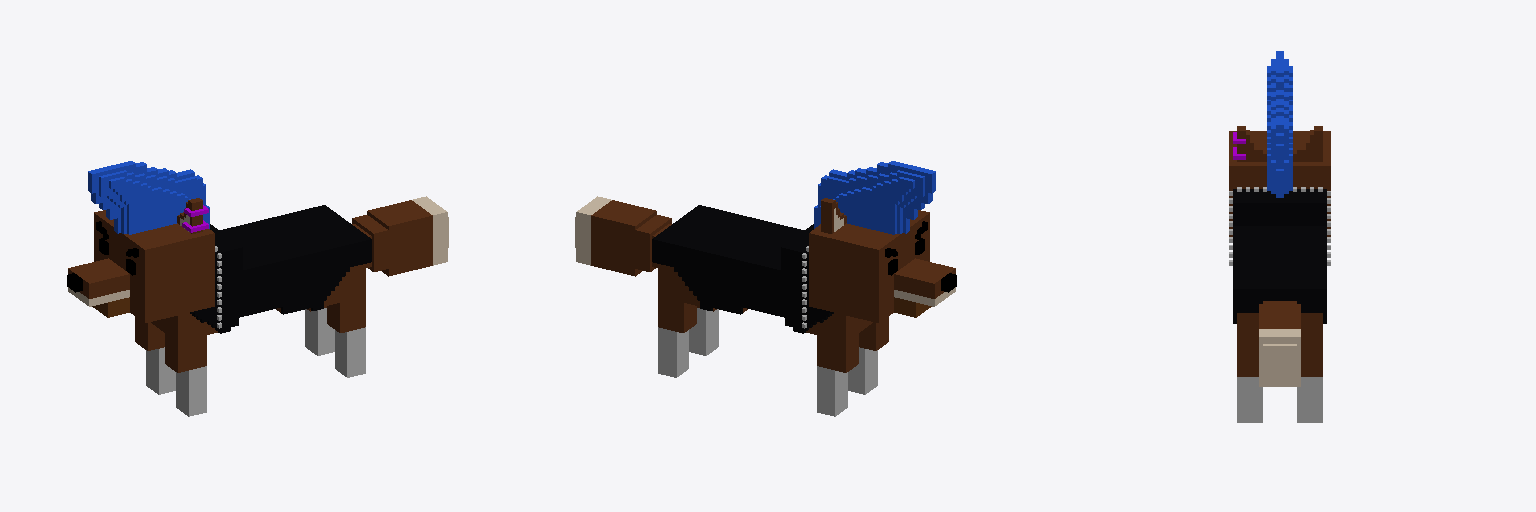
3 renders of one model, left to right at view 1: azimuth 30°, elevation 25°; view 2: azimuth 150°, elevation 25°; view 3: azimuth 270°, elevation 25°, orthographic.
Bounding box in the file's own units: 100 × 64 × 24.
Materials: 1 (1 with a texture image).